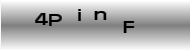4: (35, 12, 48, 26)
F: (122, 19, 135, 34)
P: (48, 13, 63, 27)
i: (76, 8, 82, 22)
n: (93, 10, 107, 21)
